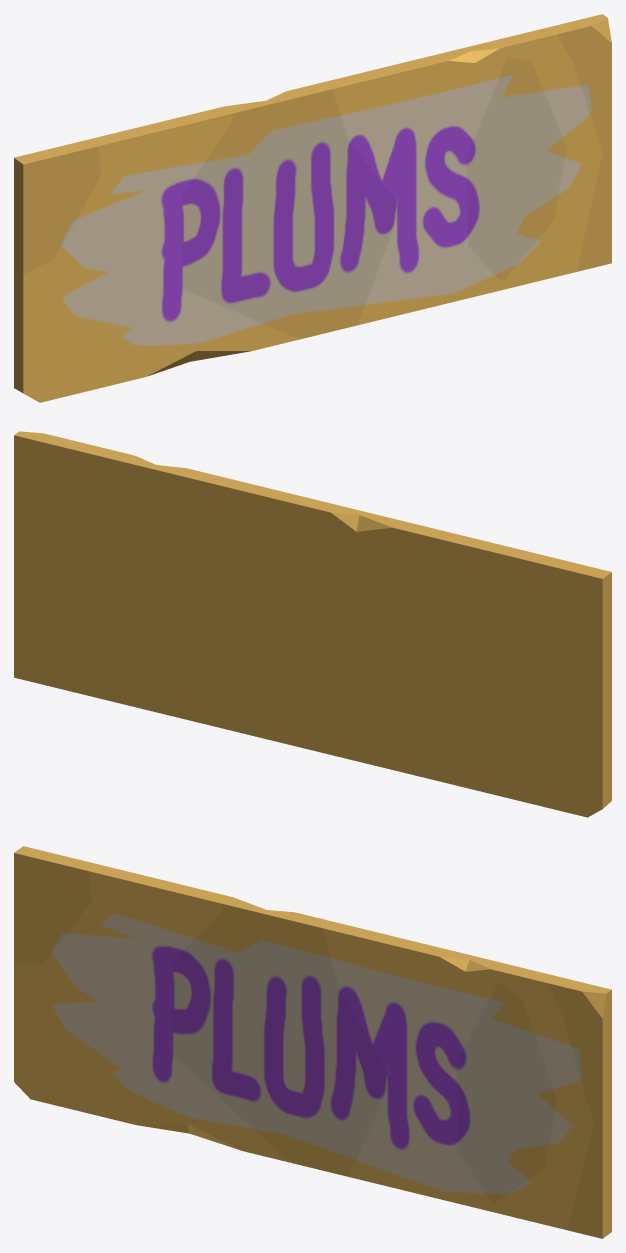
Rendered from SM_Prop_Sign_Plums_01.glb.
The picture shows the model from 3 angles, top to bottom: view 1: azimuth 30°, elevation 25°; view 2: azimuth 150°, elevation 25°; view 3: azimuth 330°, elevation 25°; orthographic projection.
Parts seen in each view (by area): view 1: SM_Prop_Sign_Plums_01; view 2: SM_Prop_Sign_Plums_01; view 3: SM_Prop_Sign_Plums_01.
Part boxes in pixels (x1=…): SM_Prop_Sign_Plums_01: x1=14, y1=14, x2=611, y2=402; SM_Prop_Sign_Plums_01: x1=14, y1=431, x2=611, y2=817; SM_Prop_Sign_Plums_01: x1=14, y1=846, x2=611, y2=1238.
Size of the model in its own units: 0.8687 by 0.3418 by 0.0241.
Materials: 1 (1 with a texture image).
